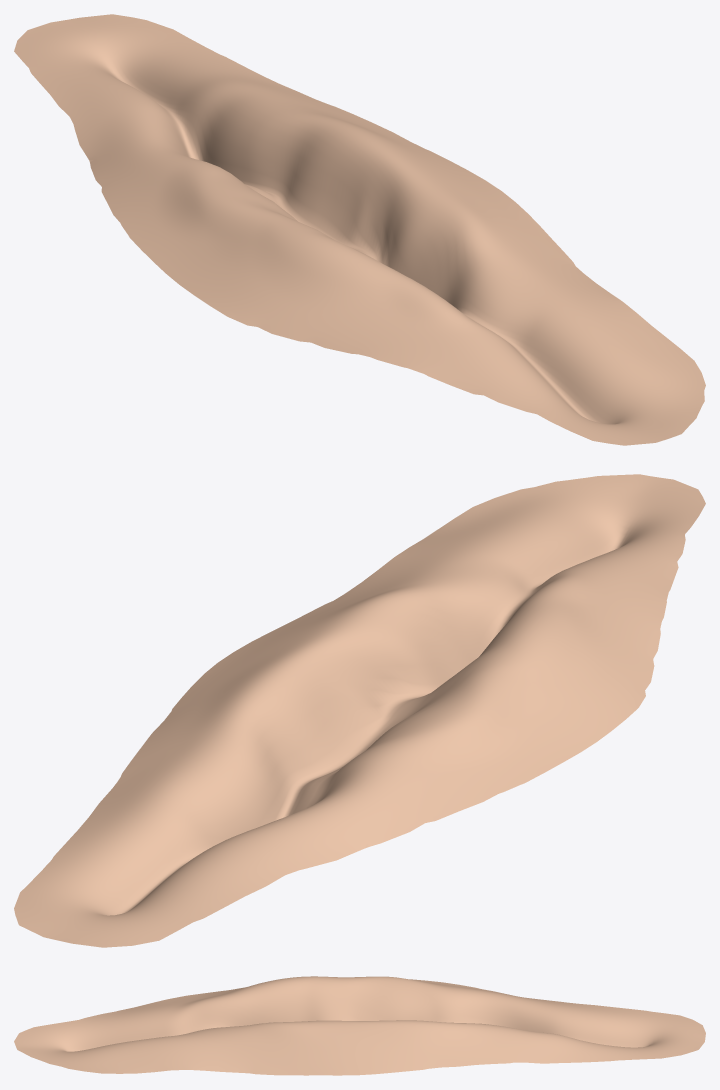
File: Stage_3.glb
The picture shows the model from 3 angles, top to bottom: view 1: azimuth 30°, elevation 25°; view 2: azimuth 150°, elevation 25°; view 3: azimuth 270°, elevation 25°; orthographic projection. The views are drawn at different scales.
Visible parts, largest first — view 1: Stage3; view 2: Stage3; view 3: Stage3.
Boxes of the visible parts, box(x1,y1,x2,y2) form: Stage3: box(14, 14, 705, 445); Stage3: box(14, 474, 705, 947); Stage3: box(14, 976, 705, 1075).
Size of the model in its own units: 0.5887 by 0.1439 by 1.76.
